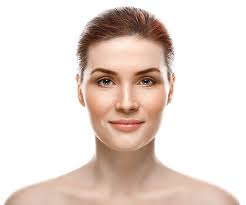white_female: (79, 22, 177, 162)
